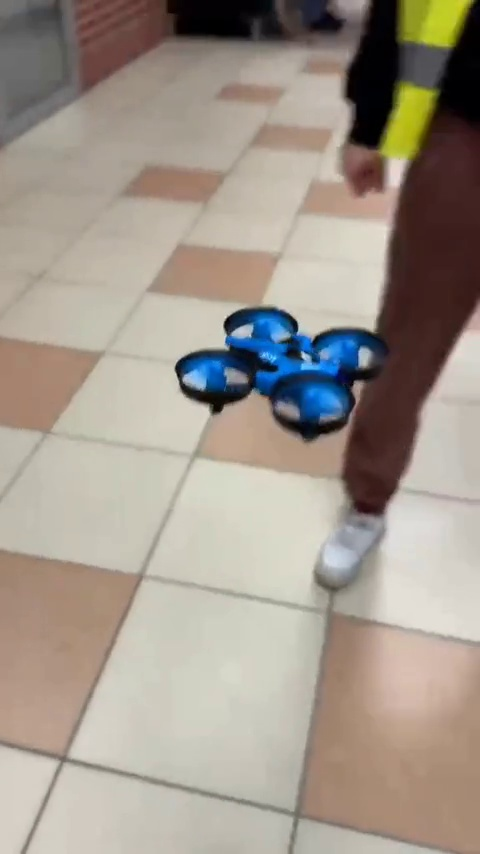drone: (179, 309, 381, 436)
